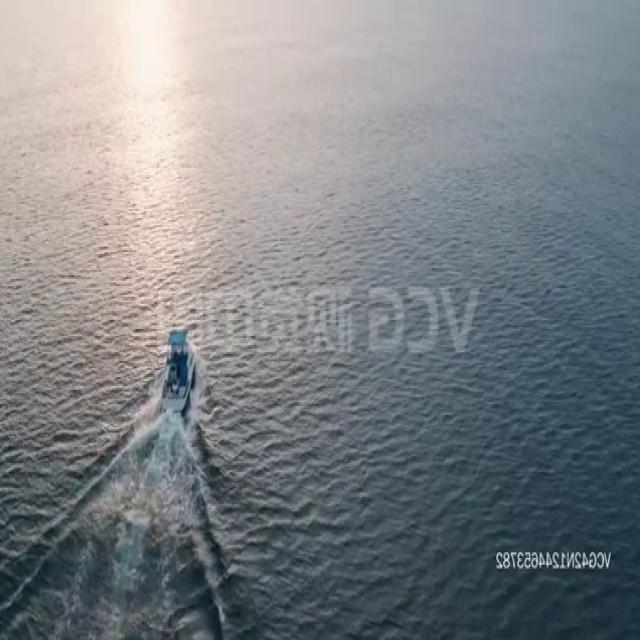houseboat: (160, 320, 197, 412)
